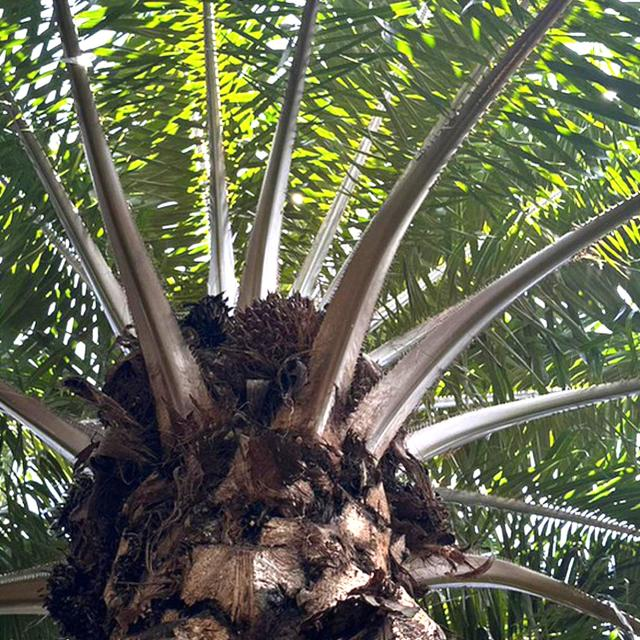ripe: (232, 284, 333, 384)
